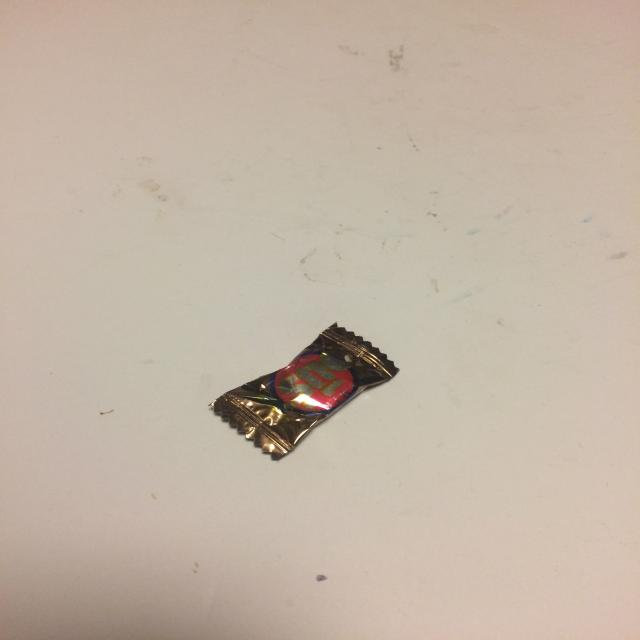trash: (208, 321, 400, 461)
